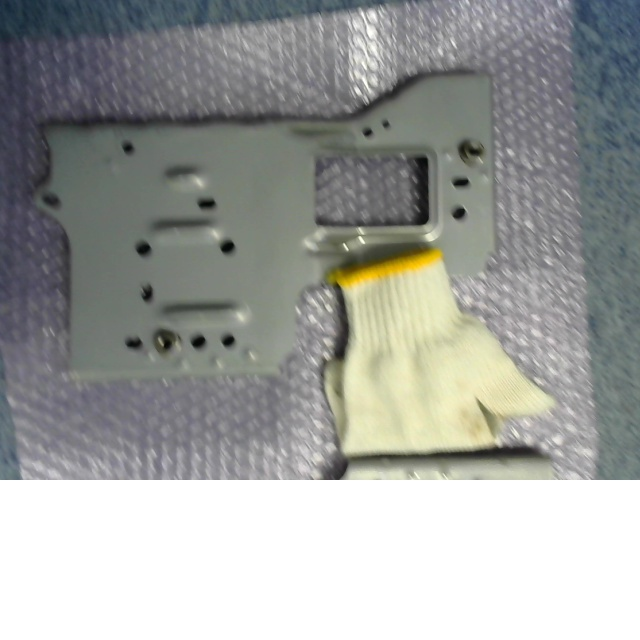dog: (153, 328, 181, 357), (459, 139, 486, 167)
